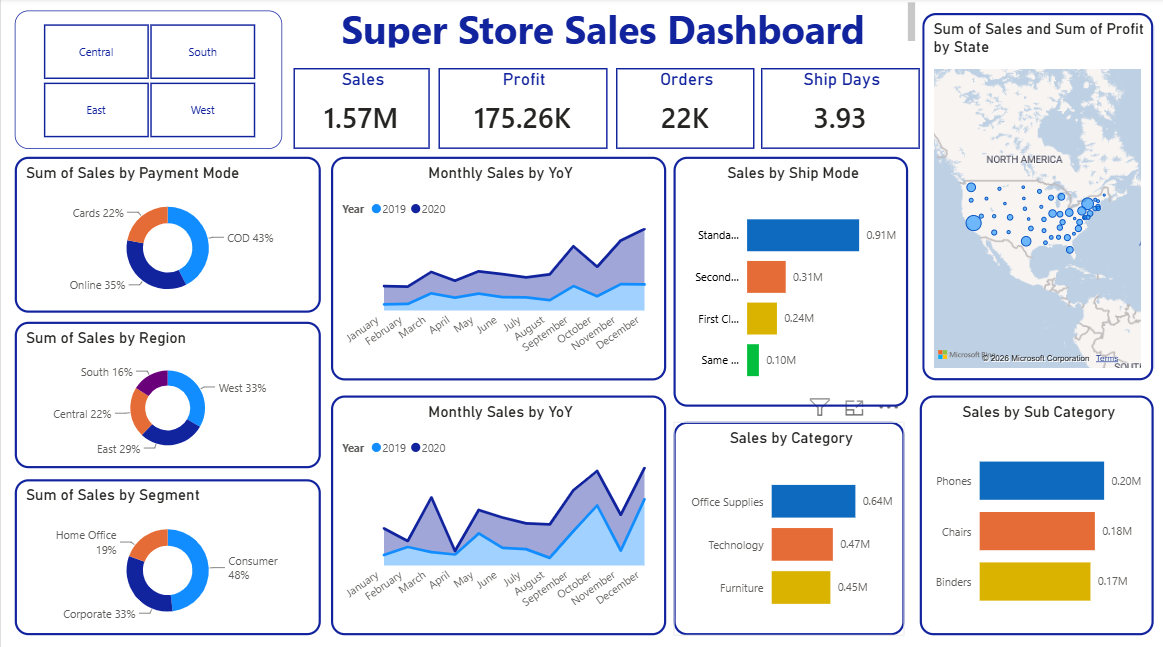

Layout of this report page (visuals, bound fields, positions):
{"tool":"powerbi","page":{"name":"Page 1","canvas":[1280,720],"ordinal":0},"visuals":[{"type":"clusteredBarChart","title":" Sales by Category","fields":{"Category":["Sheet1.Category"],"Y":["Sum(Sheet1.Sales)"]},"box":[738.3,465.2,253.9,234.6],"z":0},{"type":"clusteredBarChart","title":" Sales by Sub Category","fields":{"Y":["Sum(Sheet1.Sales)"],"Category":["Sheet1.Sub-Category"]},"box":[1008.6,436.4,256.6,263.5],"z":1000},{"type":"clusteredBarChart","title":" Sales by Ship Mode","fields":{"Y":["Sum(Sheet1.Sales)"],"Category":["Sheet1.Ship Mode"]},"box":[738.3,174.3,258,274.4],"z":2000},{"type":"stackedAreaChart","title":"Monthly Sales by YoY","fields":{"Category":["Sheet1.Order Date.Variation.Date Hierarchy.Month","Sheet1.Order Date.Variation.Date Hierarchy.Day"],"Y":["Sum(Sheet1.Sales)"],"Series":["Sheet1.Order Date.Variation.Date Hierarchy.Year"]},"box":[362.3,174.3,367.8,245.6],"z":3000},{"type":"stackedAreaChart","title":"Monthly Sales by YoY","fields":{"Category":["Sheet1.Order Date.Variation.Date Hierarchy.Month","Sheet1.Order Date.Variation.Date Hierarchy.Day"],"Series":["Sheet1.Order Date.Variation.Date Hierarchy.Year"],"Y":["Sum(Sheet1.Profit)"]},"box":[362.3,436.4,367.8,263.5],"z":4000},{"type":"map","fields":{"Category":["Sheet1.State"],"Size":["Sum(Sheet1.Sales)"]},"box":[1011.3,16.5,253.9,403.4],"z":5000},{"type":"donutChart","fields":{"Category":["Sheet1.Segment"],"Y":["Sum(Sheet1.Sales)"]},"box":[15.1,528.3,336.2,171.5],"z":6000},{"type":"donutChart","fields":{"Category":["Sheet1.Payment Mode"],"Y":["Sum(Sheet1.Sales)"]},"box":[15.1,174.3,336.2,171.5],"z":7000},{"type":"slicer","fields":{"Values":["Sheet1.Region"]},"box":[15.1,13.7,293.7,152.3],"z":8000},{"type":"textbox","box":[321.1,0,687.5,59],"z":9000},{"type":"cardVisual","title":"Sales","fields":{"Data":["Sum(Sheet1.Sales)"]},"box":[321.1,76.8,149.6,89.2],"z":10000},{"type":"cardVisual","title":"Orders","fields":{"Data":["Sum(Sheet1.Quantity)"]},"box":[675.1,76.8,152.3,89.2],"z":11000},{"type":"cardVisual","title":"Profit","fields":{"Data":["Sum(Sheet1.Profit)"]},"box":[480.3,76.8,185.2,89.2],"z":12000},{"type":"cardVisual","title":"Ship Days","fields":{"Data":["Avg(Sheet1.AvgDelivery)"]},"box":[834.3,76.8,174.3,89.2],"z":13000},{"type":"donutChart","fields":{"Y":["Sum(Sheet1.Sales)"],"Category":["Sheet1.Region"]},"box":[15.1,355.4,336.1,160.7],"z":13001}]}

Visuals, with their boxes in screenshot pixels (x1, y1, x2, y2), scaled from the page's 1280x720 canvas onto the 1163x647 screenshot:
" Sales by Category" clusteredBarChart: x1=671, y1=418, x2=902, y2=629
" Sales by Sub Category" clusteredBarChart: x1=916, y1=392, x2=1150, y2=629
" Sales by Ship Mode" clusteredBarChart: x1=671, y1=157, x2=905, y2=403
"Monthly Sales by YoY" stackedAreaChart: x1=329, y1=157, x2=663, y2=377
"Monthly Sales by YoY" stackedAreaChart: x1=329, y1=392, x2=663, y2=629
map - Sheet1.State x Sum(Sheet1.Sales): x1=919, y1=15, x2=1150, y2=377
donutChart - Sheet1.Segment x Sum(Sheet1.Sales): x1=14, y1=475, x2=319, y2=629
donutChart - Sheet1.Payment Mode x Sum(Sheet1.Sales): x1=14, y1=157, x2=319, y2=311
slicer - Sheet1.Region: x1=14, y1=12, x2=281, y2=149
textbox: x1=292, y1=0, x2=916, y2=53
"Sales" cardVisual: x1=292, y1=69, x2=428, y2=149
"Orders" cardVisual: x1=613, y1=69, x2=752, y2=149
"Profit" cardVisual: x1=436, y1=69, x2=605, y2=149
"Ship Days" cardVisual: x1=758, y1=69, x2=916, y2=149
donutChart - Sum(Sheet1.Sales) x Sheet1.Region: x1=14, y1=319, x2=319, y2=464
